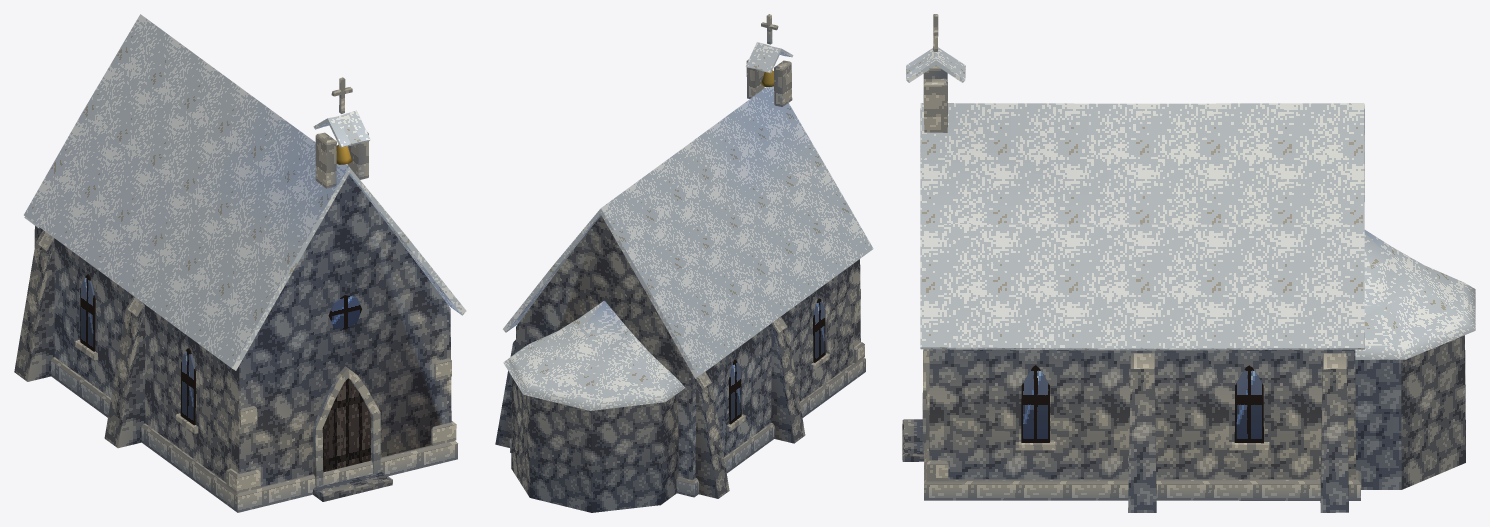
File: vlg.chapel.glb
3 renders of one model, left to right at view 1: azimuth 30°, elevation 25°; view 2: azimuth 150°, elevation 25°; view 3: azimuth 270°, elevation 25°, orthographic. The views are drawn at different scales.
Visible parts, largest first — view 1: kit_roof, kit_walls, kit_stonework, kit_fittings; view 2: kit_roof, kit_walls, kit_stonework, kit_fittings; view 3: kit_roof, kit_walls, kit_stonework, kit_fittings.
Boxes of the visible parts, bbox=[...] form: kit_roof: bbox=[24, 14, 466, 370]; kit_walls: bbox=[34, 174, 451, 486]; kit_stonework: bbox=[14, 132, 457, 512]; kit_fittings: bbox=[75, 77, 392, 501]; kit_roof: bbox=[503, 42, 873, 410]; kit_walls: bbox=[511, 215, 860, 512]; kit_stonework: bbox=[495, 59, 865, 498]; kit_fittings: bbox=[727, 14, 829, 431]; kit_roof: bbox=[906, 47, 1475, 359]; kit_walls: bbox=[929, 335, 1465, 489]; kit_stonework: bbox=[923, 65, 1361, 512]; kit_fittings: bbox=[902, 14, 1269, 461].
Size of the model in its own units: 6.91 by 9.99 by 12.08.
Materials: 7 (6 with a texture image).
